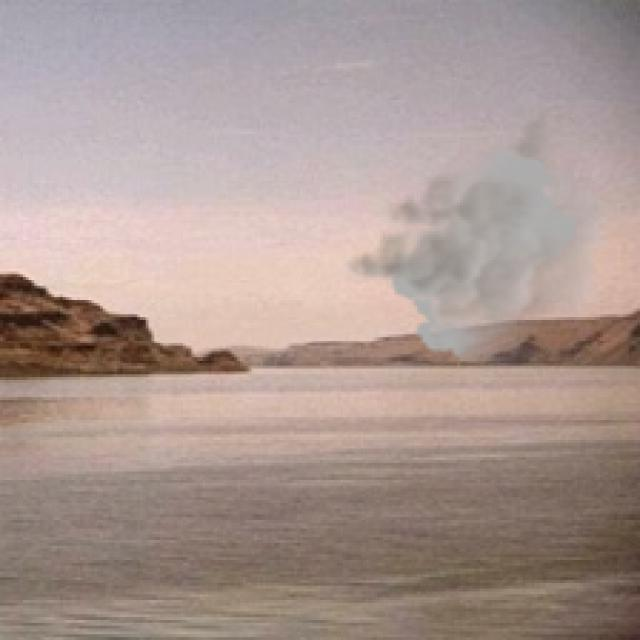Smoke: (337, 111, 614, 366)
